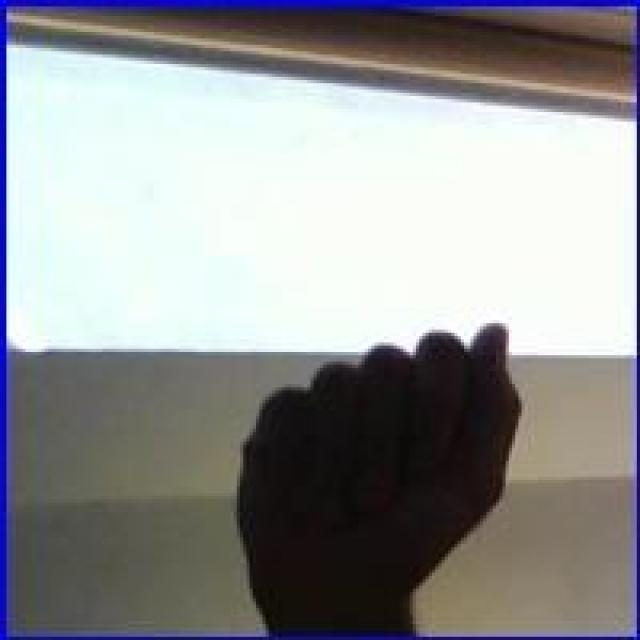A: (235, 318, 530, 636)
